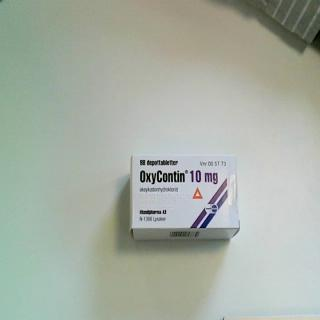oxynorm10mg: (128, 154, 242, 244)
